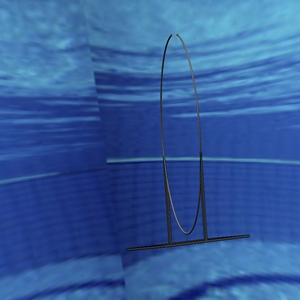circle: (125, 29, 253, 252)
